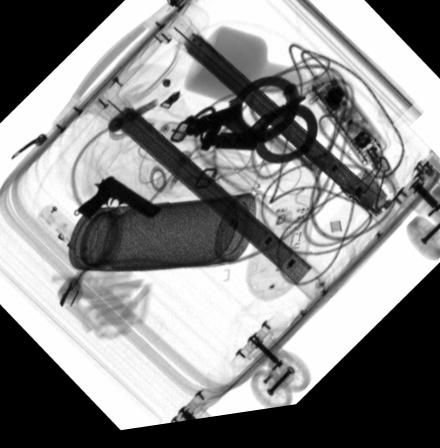Gun: (74, 176, 162, 224)
HandCuffs: (186, 82, 319, 171)
